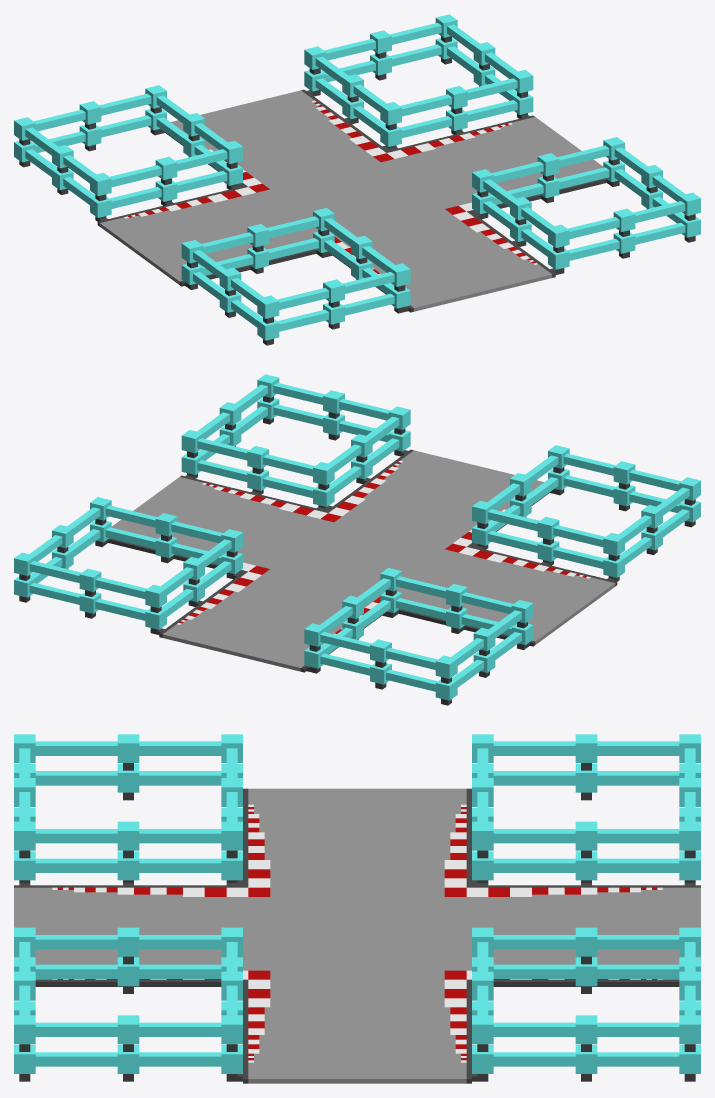
File: cross.obj
3 views of the same model, one above another, from view 1: azimuth 30°, elevation 25°; view 2: azimuth 150°, elevation 25°; view 3: azimuth 270°, elevation 25° (orthographic). The views are drawn at different scales.
Bounding box in the file's own units: 126 × 12 × 126.
Materials: 1 (1 with a texture image).
